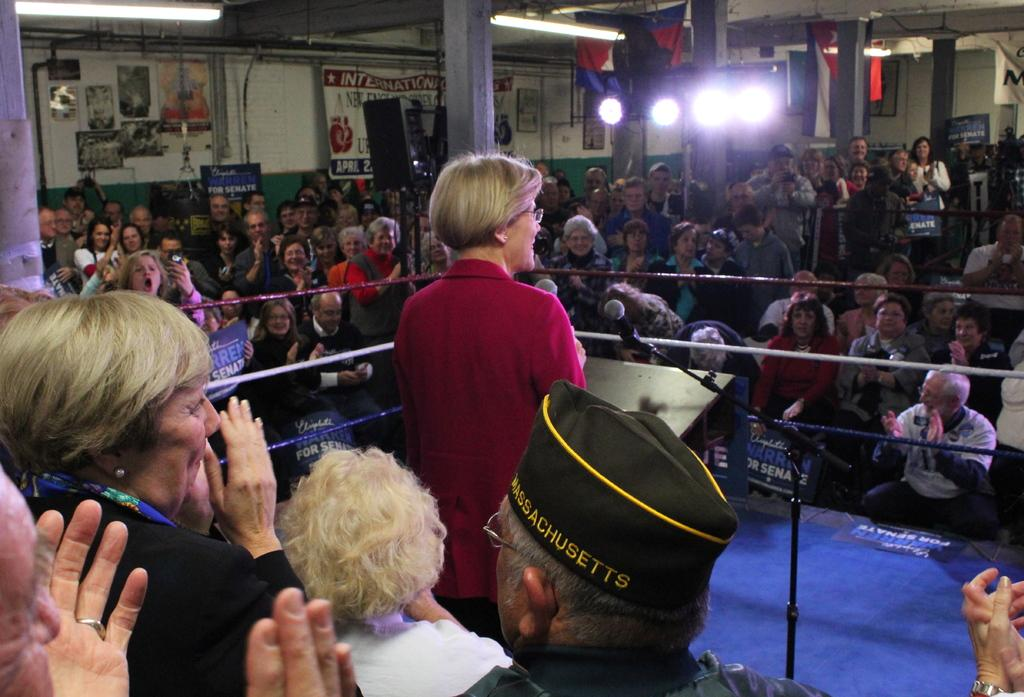Sem Máscara: (0, 472, 61, 694), (126, 375, 219, 509), (490, 490, 526, 638), (504, 194, 539, 271), (913, 373, 946, 413), (129, 254, 157, 295), (870, 300, 898, 335), (788, 308, 816, 335), (954, 316, 977, 345), (314, 303, 340, 328), (566, 227, 592, 252), (931, 299, 955, 326), (266, 307, 291, 329), (281, 243, 304, 265), (246, 215, 267, 239), (296, 204, 317, 225), (374, 230, 398, 248), (341, 234, 362, 254), (312, 244, 332, 263), (40, 215, 56, 235), (123, 229, 139, 248), (249, 194, 265, 213), (210, 197, 225, 217), (92, 228, 109, 244), (57, 211, 68, 230)
